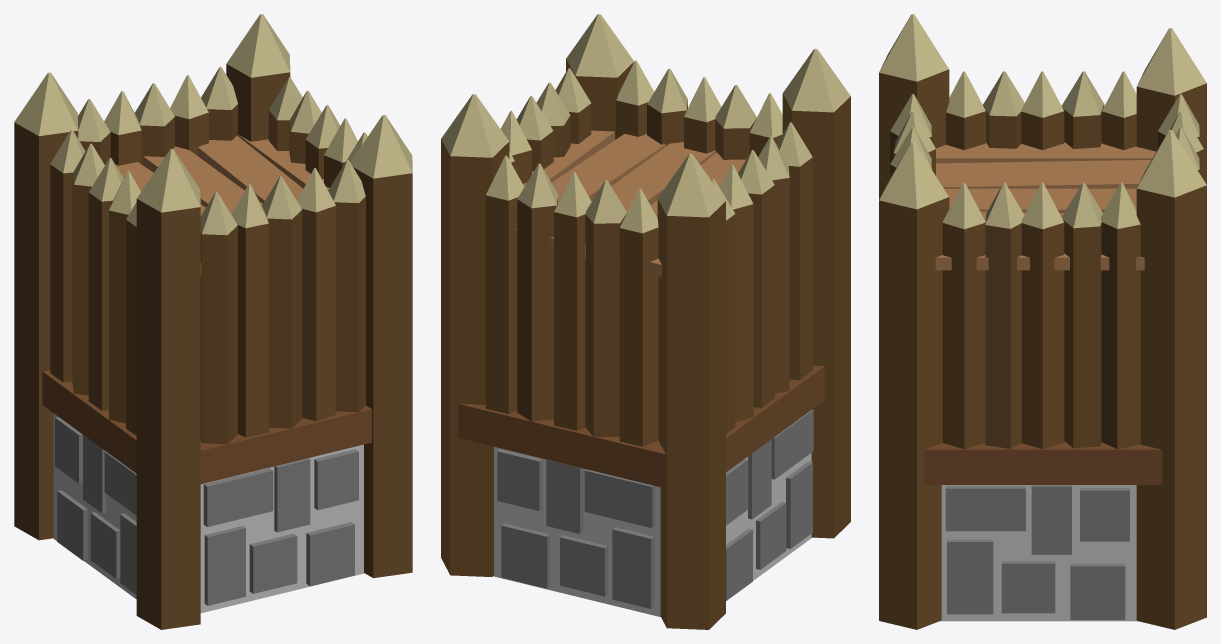
Rendered from WoodenTower3.fbx.
3 views of the same model, side by side, from view 1: azimuth 30°, elevation 25°; view 2: azimuth 150°, elevation 25°; view 3: azimuth 270°, elevation 25° (orthographic). The views are drawn at different scales.
Visible parts, largest first — view 1: Cylinder.033, Cylinder.030, Cylinder.032, Cylinder.035, Cylinder.036, Cylinder.038, Cube.011, Cylinder.037, Cylinder.039, Cube.029, Cylinder.025, Cylinder.022 (+30 smaller); view 2: Cylinder.032, Cylinder.031, Cylinder.033, Cylinder.034, Cylinder.027, Cylinder.028, Cylinder.026, Cube.032, Cube.011, Cylinder.029, Cylinder.021, Cylinder.022 (+30 smaller); view 3: Cylinder.031, Cylinder.030, Cylinder.020, Cylinder.019, Cylinder.016, Cylinder.017, Cube.030, Cylinder.018, Cube.011, Cylinder.033, Cube.024, Cylinder.032 (+19 smaller).
Part boxes in pixels (bbox=[...]): Cylinder.033: bbox=[136, 149, 200, 629]; Cylinder.030: bbox=[350, 115, 412, 578]; Cylinder.032: bbox=[14, 72, 78, 540]; Cylinder.035: bbox=[200, 192, 237, 444]; Cylinder.036: bbox=[262, 176, 302, 428]; Cylinder.038: bbox=[297, 168, 335, 421]; Cube.011: bbox=[53, 413, 364, 613]; Cylinder.037: bbox=[231, 184, 268, 437]; Cylinder.039: bbox=[328, 160, 365, 412]; Cube.029: bbox=[200, 406, 371, 484]; Cylinder.025: bbox=[50, 129, 85, 382]; Cylinder.022: bbox=[88, 158, 123, 410]; Cylinder.032: bbox=[657, 153, 725, 629]; Cylinder.031: bbox=[441, 94, 509, 576]; Cylinder.033: bbox=[782, 48, 850, 538]; Cylinder.034: bbox=[619, 188, 658, 446]; Cylinder.027: bbox=[517, 163, 557, 423]; Cylinder.028: bbox=[585, 180, 626, 438]; Cylinder.026: bbox=[485, 155, 524, 413]; Cube.032: bbox=[458, 404, 665, 488]; Cube.011: bbox=[493, 446, 811, 616]; Cylinder.029: bbox=[554, 172, 591, 430]; Cylinder.021: bbox=[776, 122, 812, 380]; Cylinder.022: bbox=[738, 150, 774, 407]; Cylinder.031: bbox=[1136, 130, 1206, 629]; Cylinder.030: bbox=[879, 141, 949, 629]; Cylinder.020: bbox=[942, 182, 985, 449]; Cylinder.019: bbox=[1021, 182, 1064, 449]; Cylinder.016: bbox=[1101, 182, 1140, 449]; Cylinder.017: bbox=[1061, 182, 1102, 448]; Cube.030: bbox=[924, 441, 1162, 484]; Cylinder.018: bbox=[985, 182, 1024, 448]; Cube.011: bbox=[940, 485, 1137, 621]; Cylinder.033: bbox=[879, 14, 949, 199]; Cube.024: bbox=[936, 160, 1151, 188]; Cylinder.032: bbox=[1136, 28, 1206, 184].
Size of the model in its own units: 607 by 1006 by 608.
